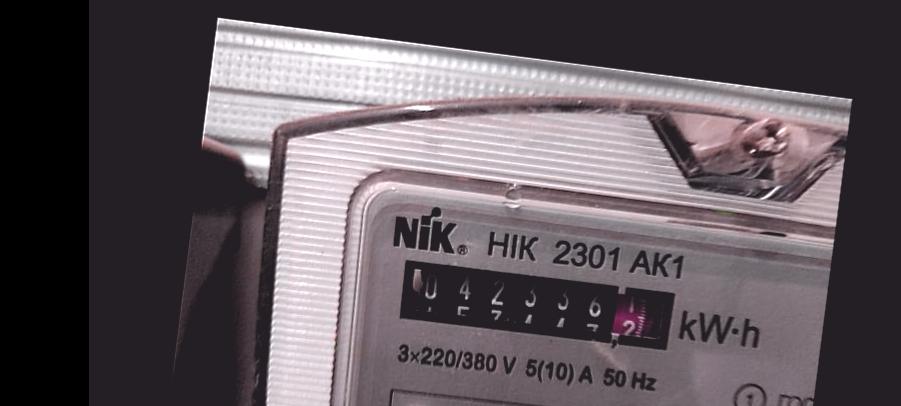0: (422, 272, 441, 301)
1: (625, 291, 639, 315)
2: (490, 276, 509, 307), (620, 317, 638, 337)
3: (553, 281, 573, 313), (522, 279, 540, 309)
4: (456, 271, 477, 302)
6: (587, 288, 607, 320)
screen: (386, 245, 690, 363)
